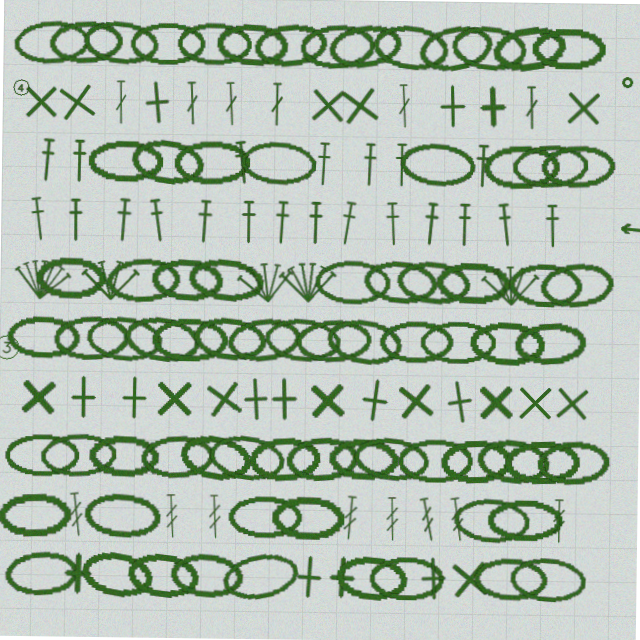chain: (411, 17, 494, 75), (222, 548, 305, 606), (122, 314, 204, 368), (324, 314, 406, 368), (485, 18, 565, 73), (178, 431, 258, 486), (81, 549, 161, 604), (208, 432, 290, 485), (322, 19, 402, 73), (126, 137, 206, 190), (367, 20, 448, 72), (77, 20, 158, 71), (353, 433, 434, 484), (248, 20, 327, 72), (185, 256, 265, 307), (225, 315, 303, 367), (128, 551, 206, 603), (191, 315, 270, 366), (476, 433, 555, 484), (85, 316, 165, 366), (446, 20, 524, 71), (537, 256, 615, 307), (394, 256, 471, 307), (396, 139, 476, 188), (263, 316, 342, 365), (85, 493, 164, 542), (6, 552, 85, 601), (337, 552, 414, 602), (512, 552, 590, 601), (295, 317, 374, 365), (361, 257, 438, 306), (286, 434, 363, 483), (172, 552, 249, 601), (9, 22, 87, 70), (237, 140, 315, 188), (104, 258, 182, 306), (455, 494, 533, 542), (295, 22, 372, 70), (537, 435, 614, 483), (509, 140, 587, 187), (53, 317, 131, 364), (468, 317, 546, 364), (41, 435, 119, 482), (211, 22, 287, 70), (149, 258, 225, 306), (513, 317, 589, 365), (141, 435, 217, 483), (249, 435, 325, 483), (538, 140, 615, 187), (480, 141, 558, 187), (44, 22, 120, 69), (505, 436, 582, 482), (6, 318, 82, 364), (171, 141, 248, 186), (314, 259, 391, 304), (507, 259, 582, 305), (441, 436, 516, 482), (476, 554, 551, 600), (434, 259, 510, 304), (89, 436, 163, 482), (329, 436, 403, 482), (0, 495, 74, 541), (126, 24, 203, 68), (151, 319, 228, 363), (399, 437, 476, 481), (173, 23, 248, 68), (85, 142, 161, 186), (379, 319, 455, 363), (420, 319, 496, 363), (230, 496, 306, 540), (489, 496, 565, 540), (273, 495, 347, 540), (527, 24, 602, 68), (6, 437, 81, 481), (372, 555, 447, 599), (34, 259, 107, 304)
double: (220, 83, 237, 127), (393, 83, 410, 127), (521, 83, 537, 127), (182, 83, 197, 127), (111, 83, 125, 127), (267, 83, 281, 127)
fan: (234, 257, 297, 307), (11, 257, 73, 307), (480, 259, 540, 305), (278, 259, 337, 304), (81, 260, 139, 304)
half_double: (335, 200, 358, 246), (26, 200, 48, 245), (145, 200, 167, 245), (230, 141, 251, 186), (35, 141, 55, 186), (420, 200, 440, 245), (494, 200, 514, 245), (113, 200, 132, 245), (312, 142, 331, 186), (194, 201, 213, 245), (271, 201, 290, 245), (382, 201, 401, 245), (472, 142, 490, 186), (542, 201, 560, 245), (359, 142, 376, 186), (391, 142, 408, 186), (66, 201, 83, 245), (239, 201, 256, 245), (306, 201, 323, 245), (69, 142, 85, 186), (455, 201, 471, 245)
noise: (0, 337, 21, 365), (8, 81, 28, 101), (617, 219, 640, 231), (618, 72, 631, 85)
single: (49, 80, 99, 130), (332, 80, 382, 130), (200, 375, 250, 425), (436, 375, 486, 425), (351, 375, 400, 424), (392, 375, 441, 424), (449, 553, 497, 601), (131, 81, 178, 128), (302, 82, 348, 128), (16, 377, 62, 423), (234, 377, 280, 423), (305, 377, 351, 423), (550, 377, 596, 423), (289, 554, 335, 600), (322, 554, 368, 600), (414, 554, 460, 600), (427, 82, 472, 127), (467, 82, 512, 127), (558, 82, 603, 127), (263, 377, 308, 422), (474, 377, 519, 422), (59, 554, 104, 599), (16, 83, 60, 127), (62, 378, 106, 422), (113, 378, 157, 422), (153, 378, 197, 422), (514, 378, 558, 422)
treble: (419, 495, 442, 541), (69, 495, 89, 540), (450, 495, 470, 540), (344, 495, 362, 540), (166, 496, 183, 540), (209, 496, 226, 540), (387, 496, 403, 540), (554, 496, 569, 540)
